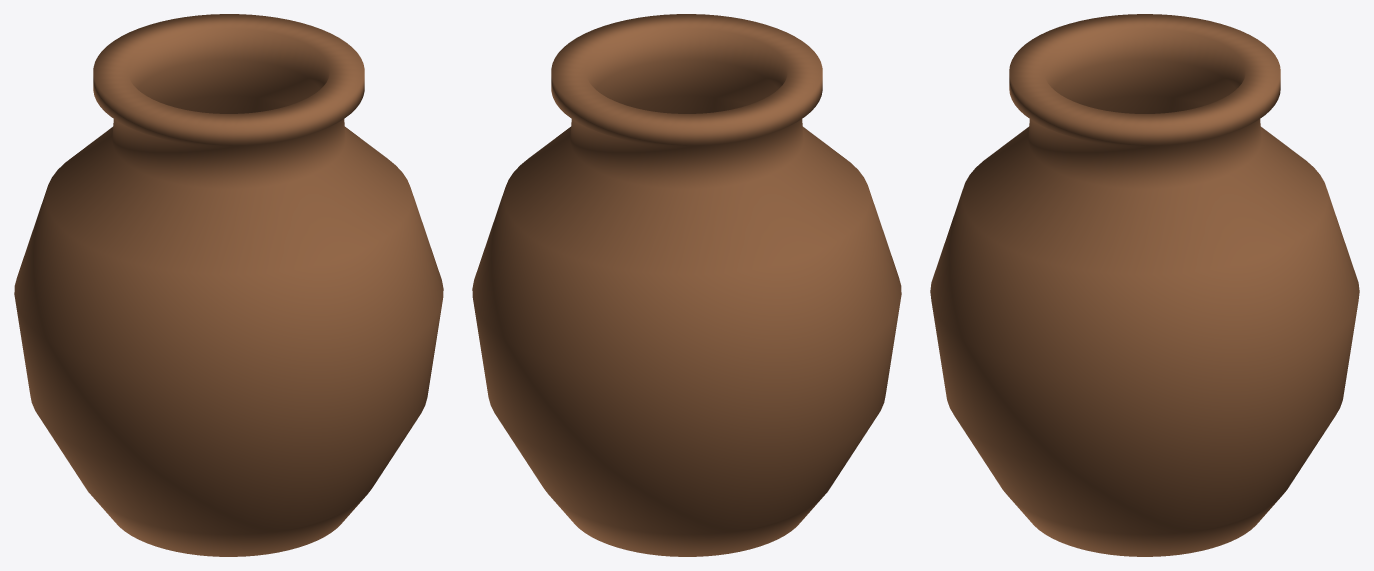
Rendered from test_vessel.glb.
3 views of the same model, side by side, from view 1: azimuth 30°, elevation 25°; view 2: azimuth 150°, elevation 25°; view 3: azimuth 270°, elevation 25° (orthographic).
Visible parts, largest first — view 1: TEST_ONLY_NotMuseumArtifact; view 2: TEST_ONLY_NotMuseumArtifact; view 3: TEST_ONLY_NotMuseumArtifact.
Part boxes in pixels (box(x1,y1,x2,y2)): TEST_ONLY_NotMuseumArtifact: box(14, 14, 443, 556); TEST_ONLY_NotMuseumArtifact: box(472, 14, 901, 556); TEST_ONLY_NotMuseumArtifact: box(930, 14, 1359, 556).
Bounding box in the file's own units: 1.36 × 1.52 × 1.36.
